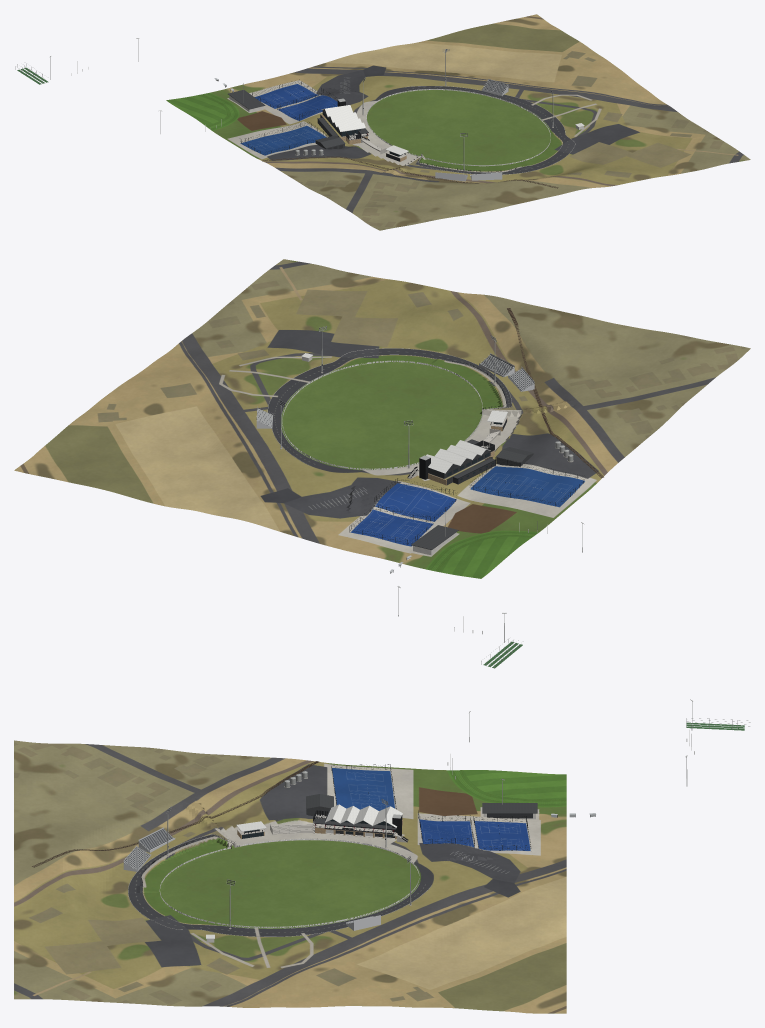
The model's file is barossa.glb.
3 renders of one model, top to bottom at view 1: azimuth 30°, elevation 25°; view 2: azimuth 150°, elevation 25°; view 3: azimuth 270°, elevation 25°, orthographic. The views are drawn at different scales.
Parts seen in each view (by area): view 1: site, others, clubrooms, temp_stands, fence, kerbs, rail, oval2; view 2: site, others, clubrooms, temp_stands, fence, oval2, kerbs; view 3: site, others, clubrooms, temp_stands, fence, kerbs, oval2, rail.
Boxes of the visible parts, x1=… form: site: x1=166, y1=14, x2=750, y2=230; others: x1=228, y1=79, x2=584, y2=155; clubrooms: x1=317, y1=98, x2=368, y2=144; temp_stands: x1=435, y1=79, x2=508, y2=181; fence: x1=366, y1=89, x2=550, y2=166; kerbs: x1=405, y1=86, x2=575, y2=174; rail: x1=262, y1=156, x2=558, y2=188; oval2: x1=15, y1=38, x2=243, y2=133; site: x1=14, y1=259, x2=750, y2=578; others: x1=301, y1=353, x2=584, y2=554; clubrooms: x1=407, y1=439, x2=495, y2=485; temp_stands: x1=256, y1=353, x2=534, y2=428; fence: x1=282, y1=360, x2=482, y2=469; oval2: x1=389, y1=511, x2=583, y2=668; kerbs: x1=267, y1=348, x2=511, y2=465; site: x1=14, y1=740, x2=566, y2=1013; others: x1=206, y1=764, x2=537, y2=942; clubrooms: x1=313, y1=804, x2=408, y2=842; temp_stands: x1=123, y1=827, x2=380, y2=930; fence: x1=159, y1=838, x2=419, y2=927; kerbs: x1=128, y1=834, x2=431, y2=936; oval2: x1=447, y1=699, x2=750, y2=817; rail: x1=32, y1=761, x2=319, y2=867.
Size of the model in its own units: 438 by 45.57 by 480.
39 materials, 18 textured.
